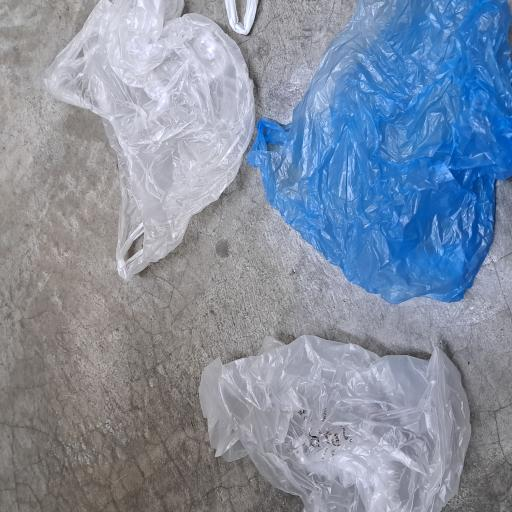plastic bag: (172, 61, 384, 345), (156, 329, 383, 512), (0, 263, 135, 512)
